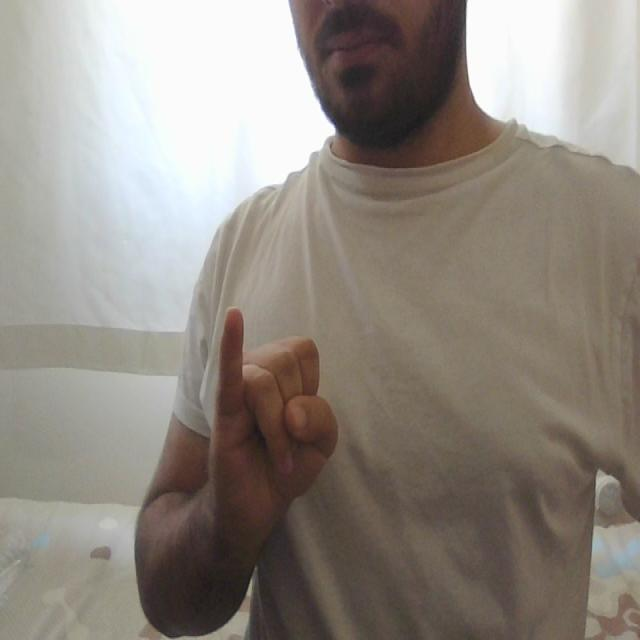kotu: (208, 299, 348, 507)
